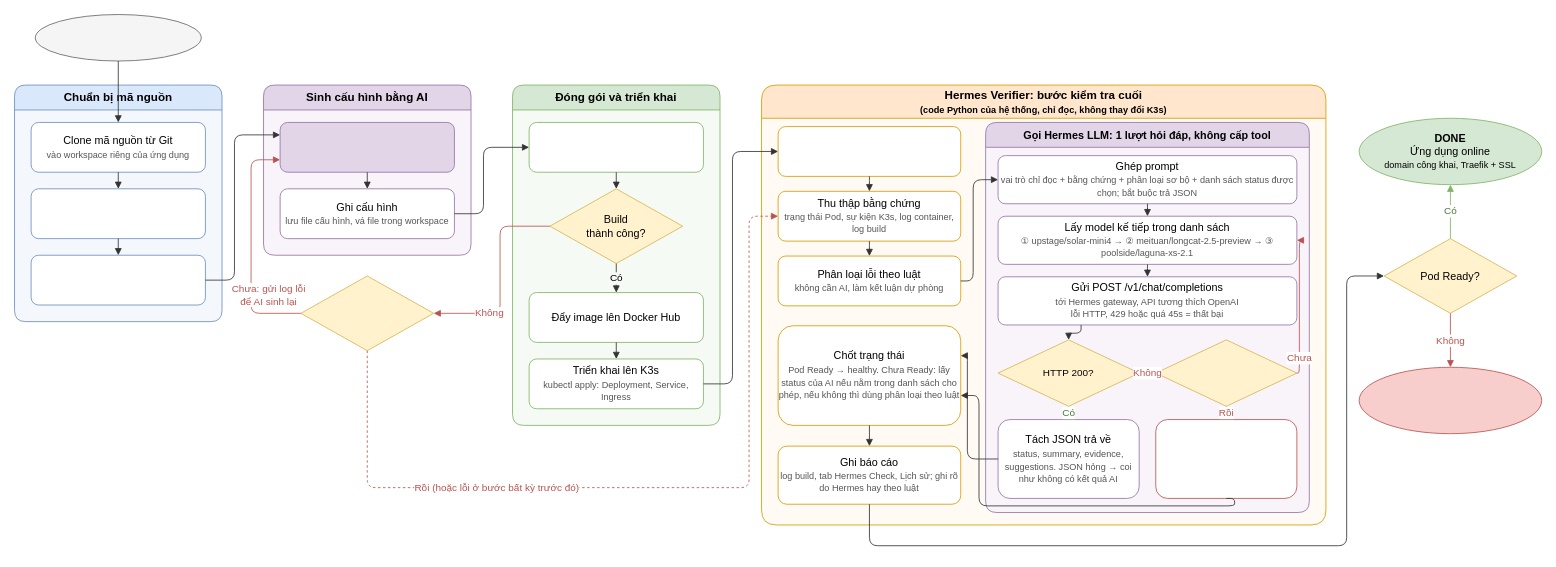
Image size: 1556x567. Some labels were removed from this diagram. Here are the shapes that lost their labels. From the top down, the centre of each, then its label:
[117,37]: Bắt đầu Người dùng bấm Deploy
[366,147]: AI sinh cấu hình Antigravity / Claude Code → Nixpacks + manifest K3s
[615,147]: Build image bằng Nixpacks tag theo thời điểm build
[869,151]: Chờ rollout kiểm tra mỗi 15s, tối đa 10 phút; Ready thì theo dõi thêm 20s
[117,213]: Tự sửa địa chỉ lắng nghe localhost → 0.0.0.0 trong mã nguồn
[117,279]: Quét cấu trúc mã nguồn cây thư mục + file lõi → ngữ cảnh cho AI
[367,313]: Đã thử đủ 3 lần?
[1226,372]: Đã thử đủ 3 model?
[1450,400]: ERROR Báo lỗi cho người dùng kèm bằng chứng và gợi ý sửa
[1226,458]: Không có kết quả AI báo cáo dùng phân loại theo luật
